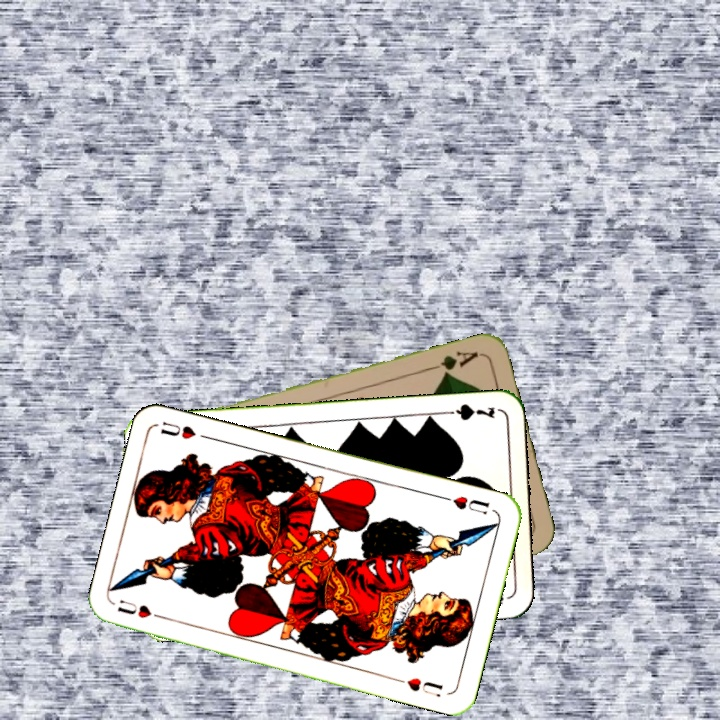G7: (438, 400, 498, 423)
GA: (424, 347, 481, 379)
HU: (113, 595, 170, 622), (438, 491, 492, 517)
